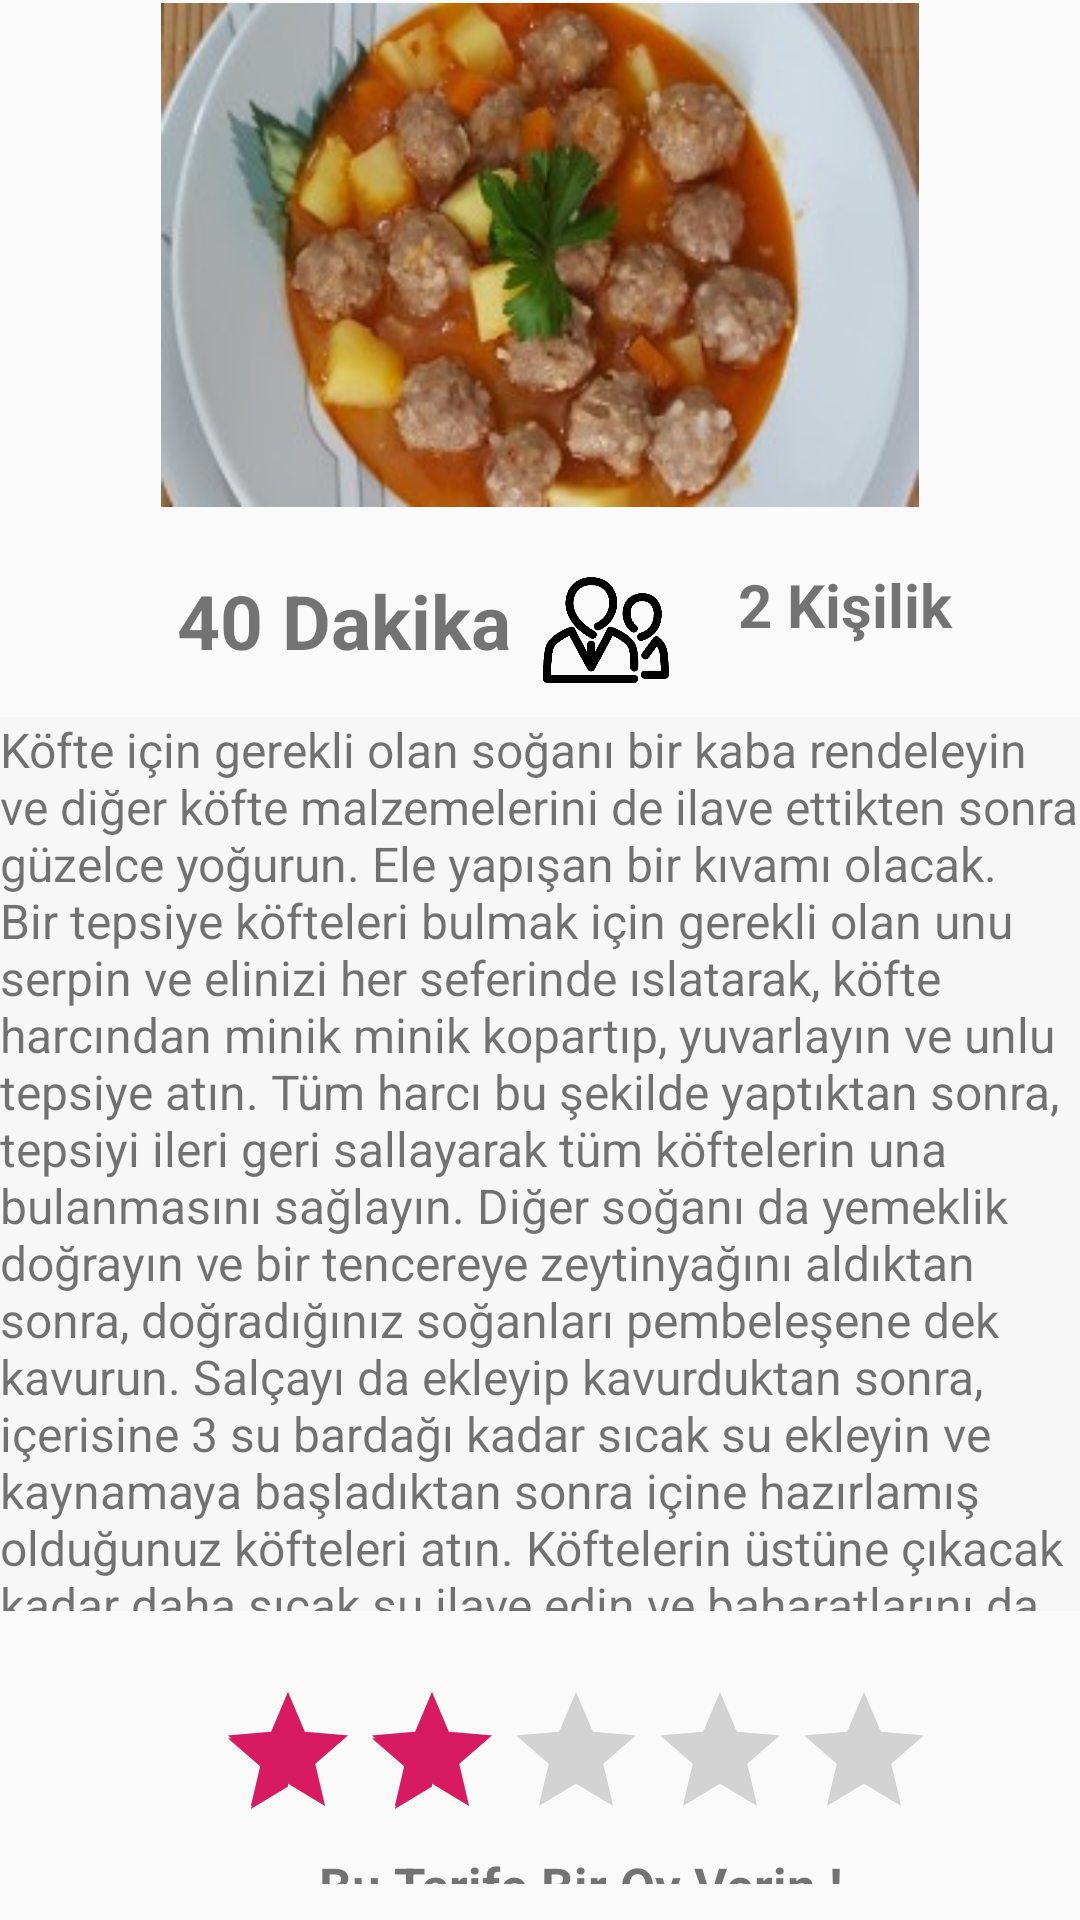

Icon click points for this 1080px x 1920px phone screenshot, format (x,y):
personicon: (606,630)
